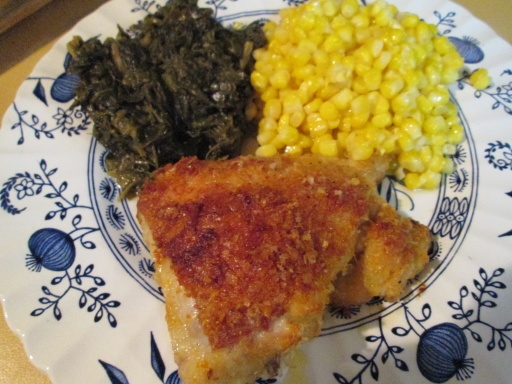background: (51, 0, 373, 230)
